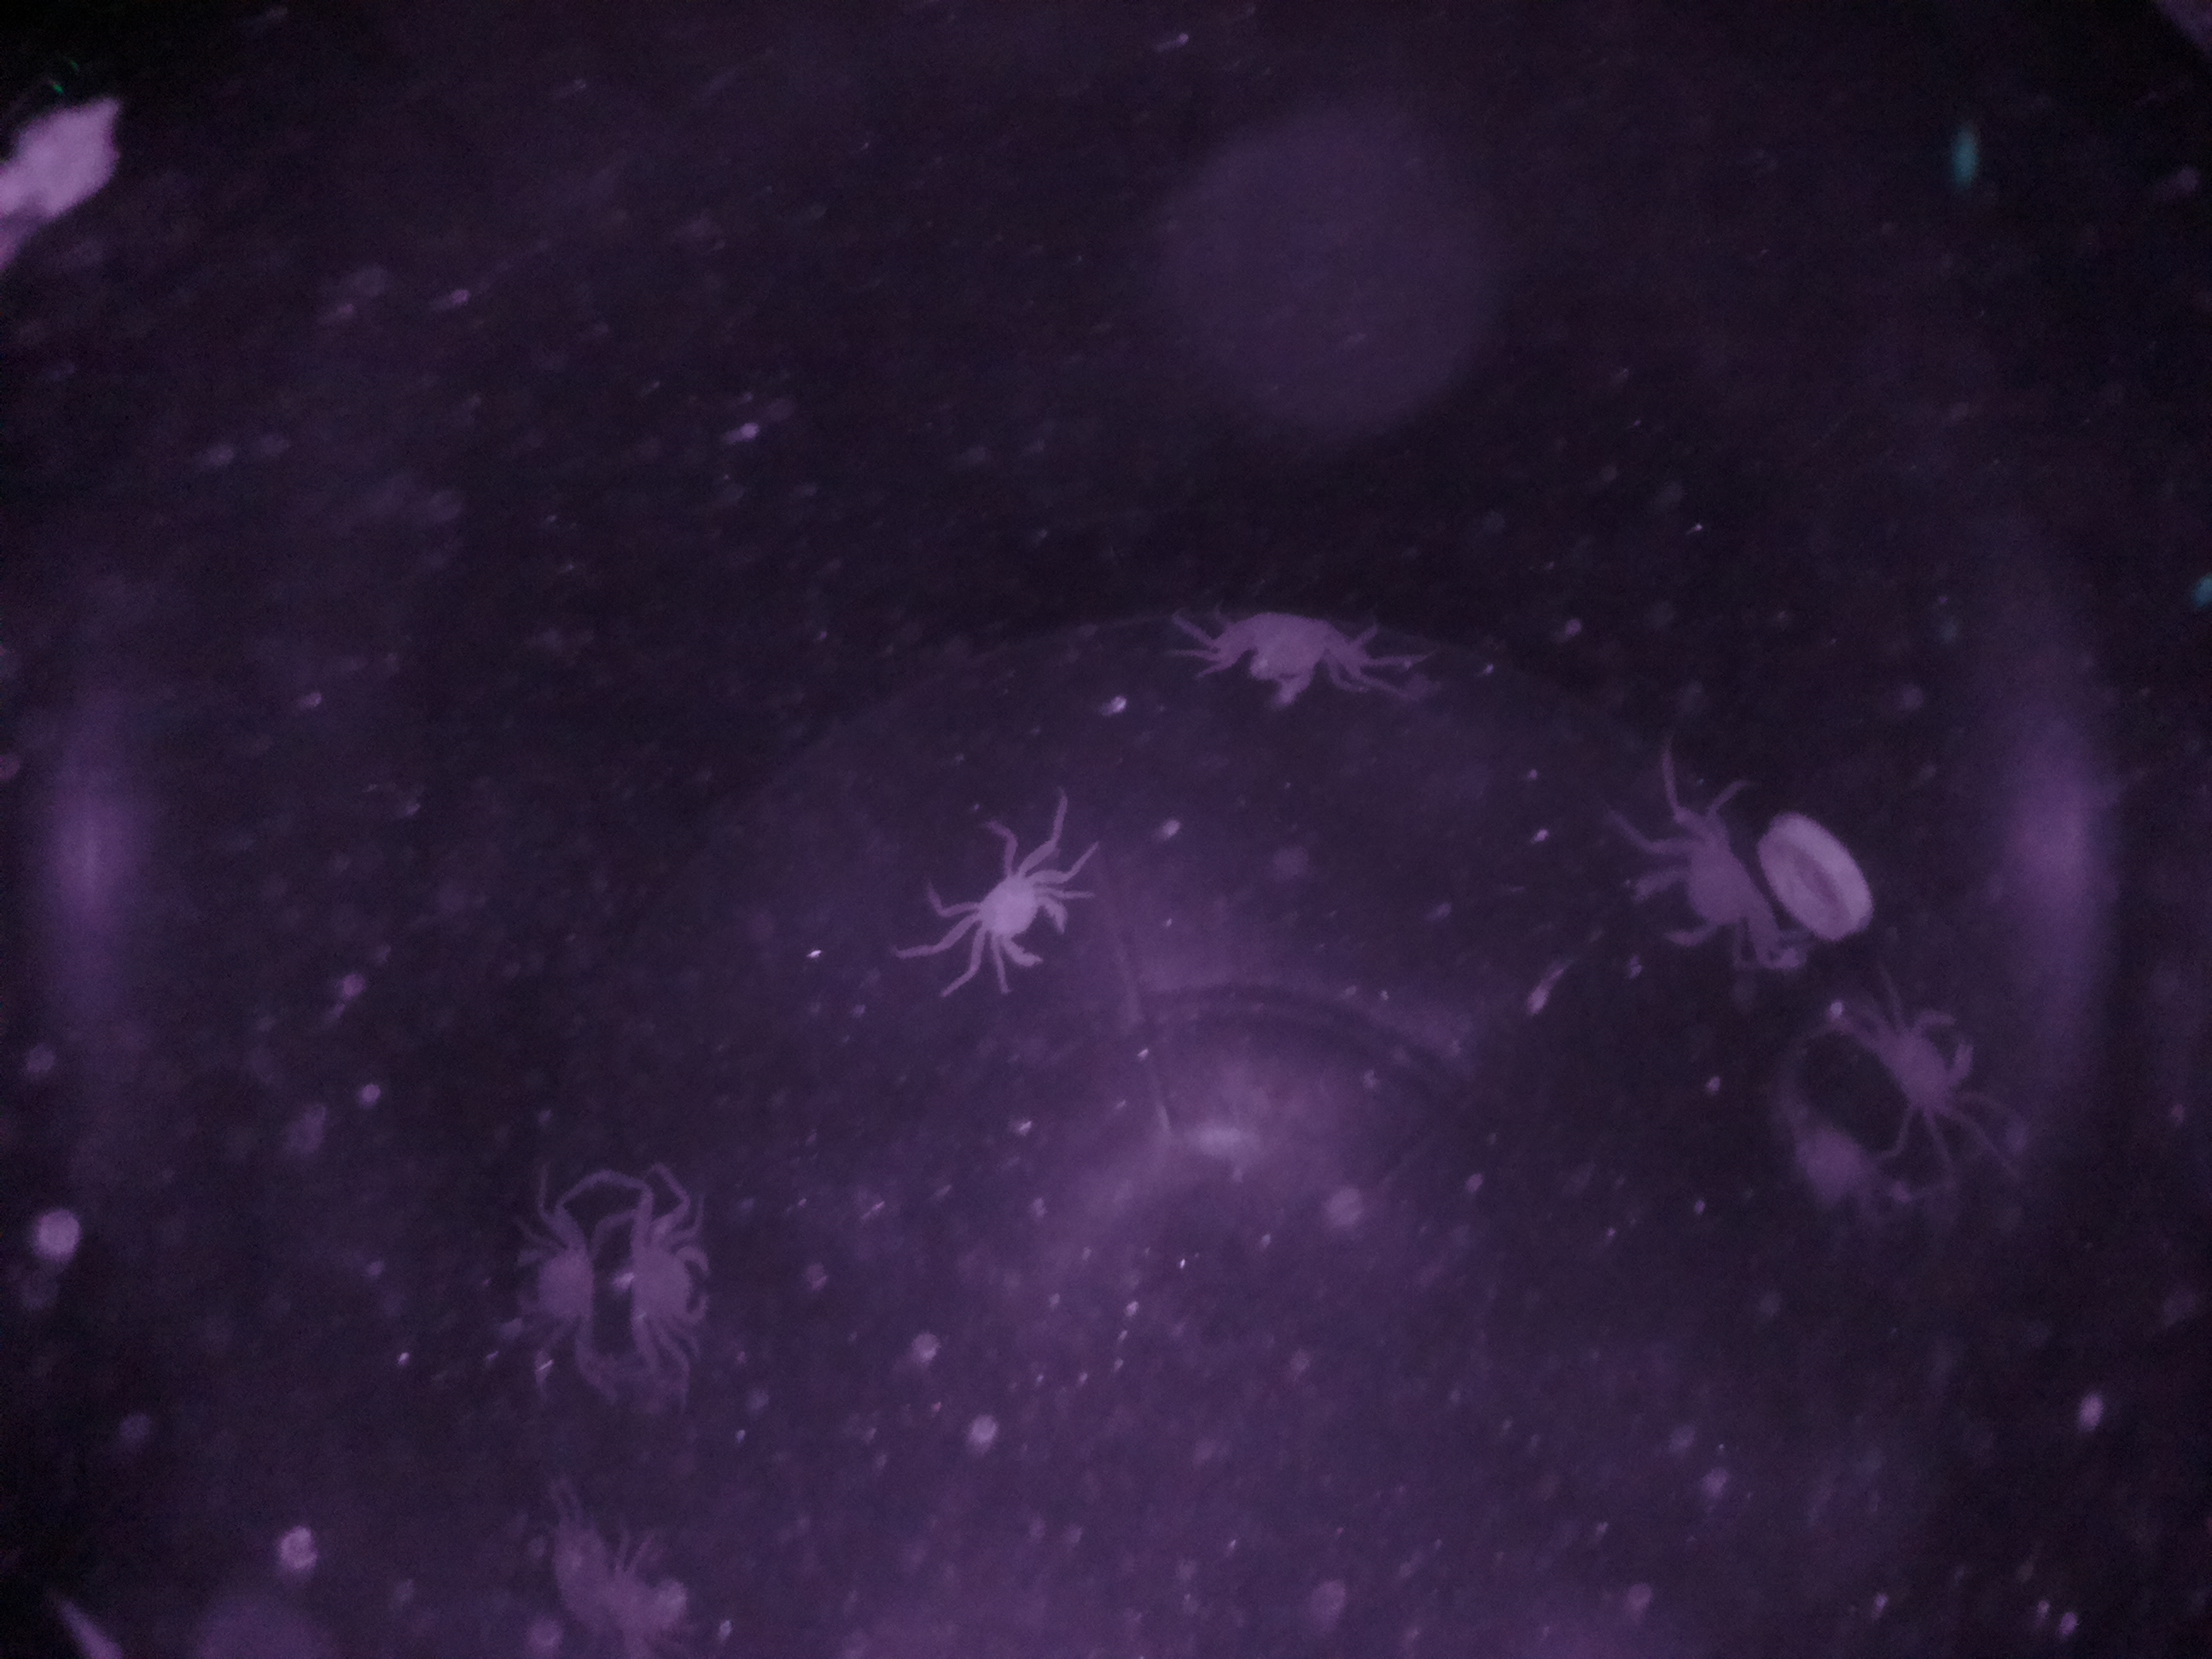Crab: (1613, 810, 1787, 972), (486, 1190, 611, 1385), (1181, 596, 1353, 730), (1846, 988, 2000, 1138), (951, 835, 1087, 995), (625, 1188, 721, 1373)
